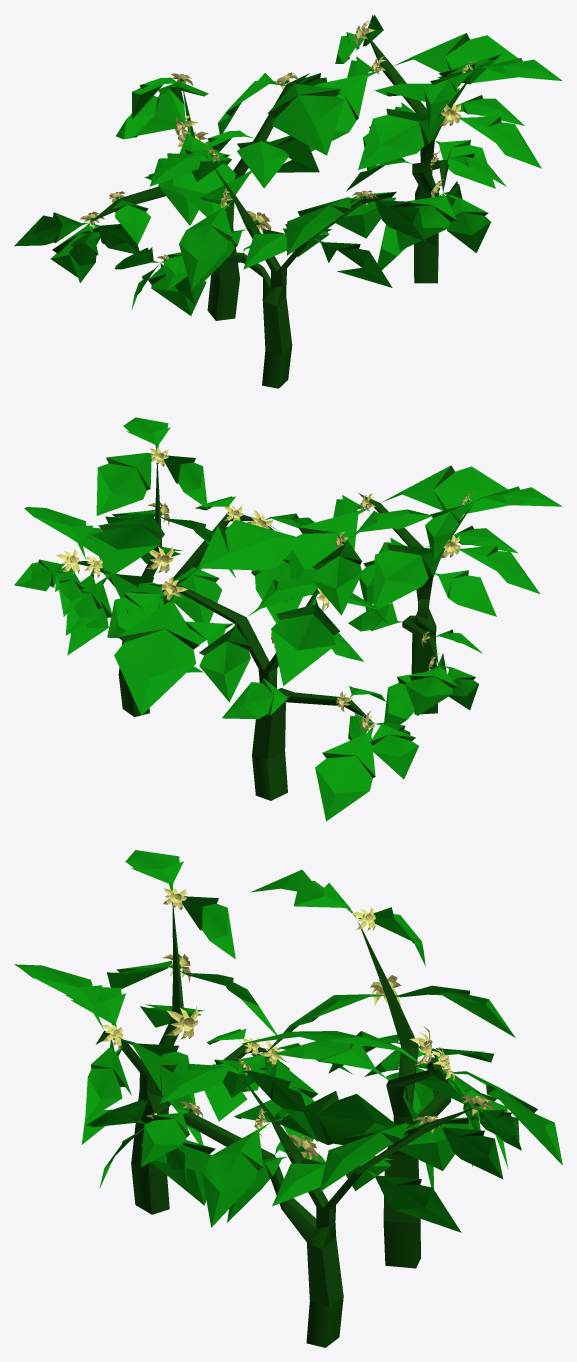
The model's file is tomato_2.glb.
3 views of the same model, one above another, from view 1: azimuth 30°, elevation 25°; view 2: azimuth 150°, elevation 25°; view 3: azimuth 270°, elevation 25° (orthographic). The views are drawn at different scales.
Parts seen in each view (by area): view 1: tomato_2; view 2: tomato_2; view 3: tomato_2.
Part boxes in pixels (<box>): tomato_2: <box>14,14,562,388</box>; tomato_2: <box>14,417,562,821</box>; tomato_2: <box>14,850,562,1347</box>.
Size of the model in its own units: 4.09 by 2.35 by 3.47.
